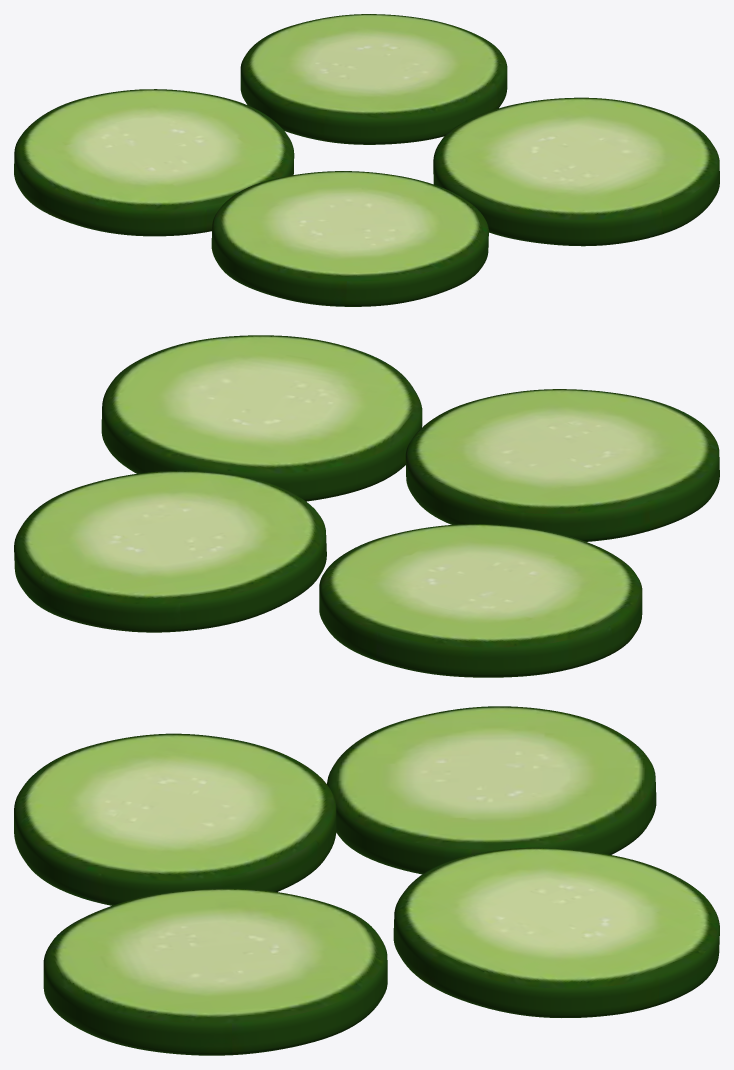
File: veg_cucumber.glb
The picture shows the model from 3 angles, top to bottom: view 1: azimuth 30°, elevation 25°; view 2: azimuth 150°, elevation 25°; view 3: azimuth 270°, elevation 25°; orthographic projection. The views are drawn at different scales.
Visible parts, largest first — view 1: EX_veg_cucumber_joined; view 2: EX_veg_cucumber_joined; view 3: EX_veg_cucumber_joined.
Boxes of the visible parts, x1=… form: EX_veg_cucumber_joined: x1=14, y1=14, x2=719, y2=306; EX_veg_cucumber_joined: x1=14, y1=335, x2=719, y2=677; EX_veg_cucumber_joined: x1=14, y1=706, x2=719, y2=1055.
Size of the model in its own units: 0.0719 by 0.00553 by 0.0666.
1 material, 1 textured.
